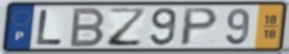9: (148, 7, 178, 48), (225, 8, 251, 47)
B: (67, 6, 108, 48)
L: (34, 8, 65, 46)
P: (178, 6, 221, 48)
Z: (107, 6, 148, 48)
